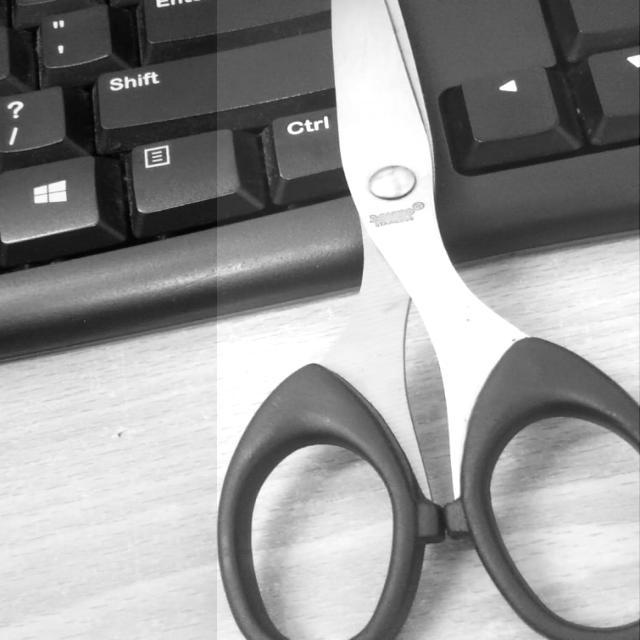tesoura: (217, 0, 639, 639)
